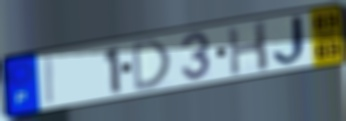1: (102, 44, 123, 96)
3: (177, 29, 213, 84)
D: (131, 36, 173, 94)
H: (225, 18, 271, 77)
I: (45, 55, 57, 107)
J: (271, 12, 312, 69)
